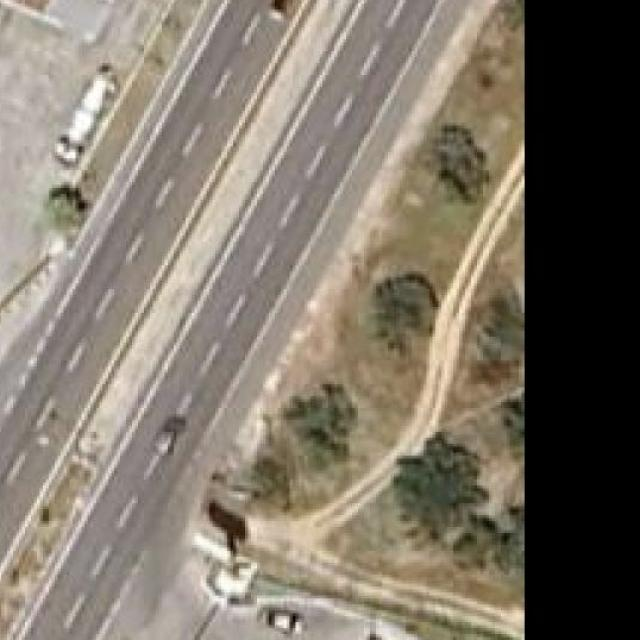Tree: (391, 432, 490, 533), (281, 378, 352, 456), (427, 122, 493, 194), (370, 269, 435, 340), (40, 186, 91, 237)
